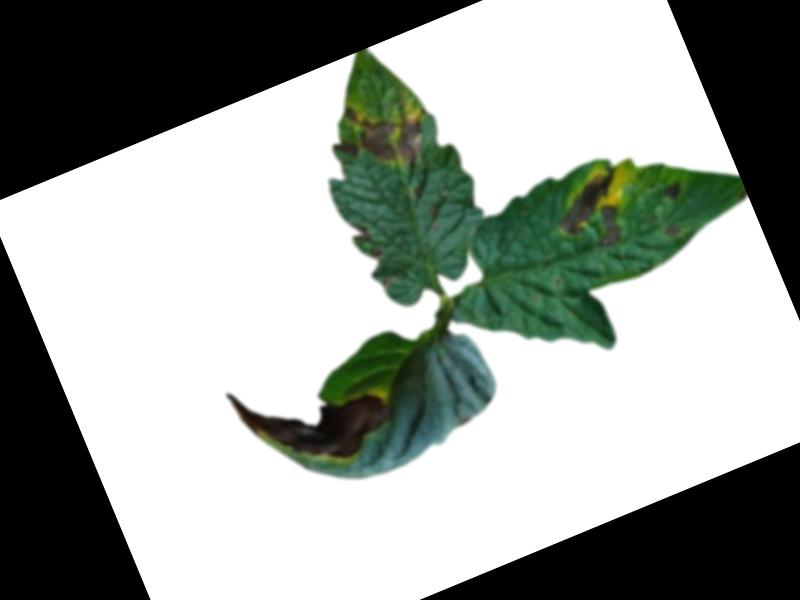Early_blight: (222, 337, 405, 495), (544, 164, 643, 261), (340, 84, 432, 183), (347, 219, 385, 265), (330, 135, 362, 166), (657, 180, 686, 206), (661, 223, 681, 242)
